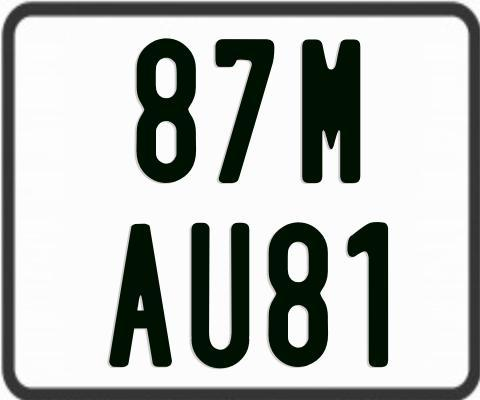1: (346, 219, 393, 364)
7: (212, 37, 276, 186)
8: (267, 221, 327, 371), (133, 35, 194, 180)
A: (106, 223, 169, 366)
M: (300, 38, 364, 183)
U: (191, 223, 255, 374)
